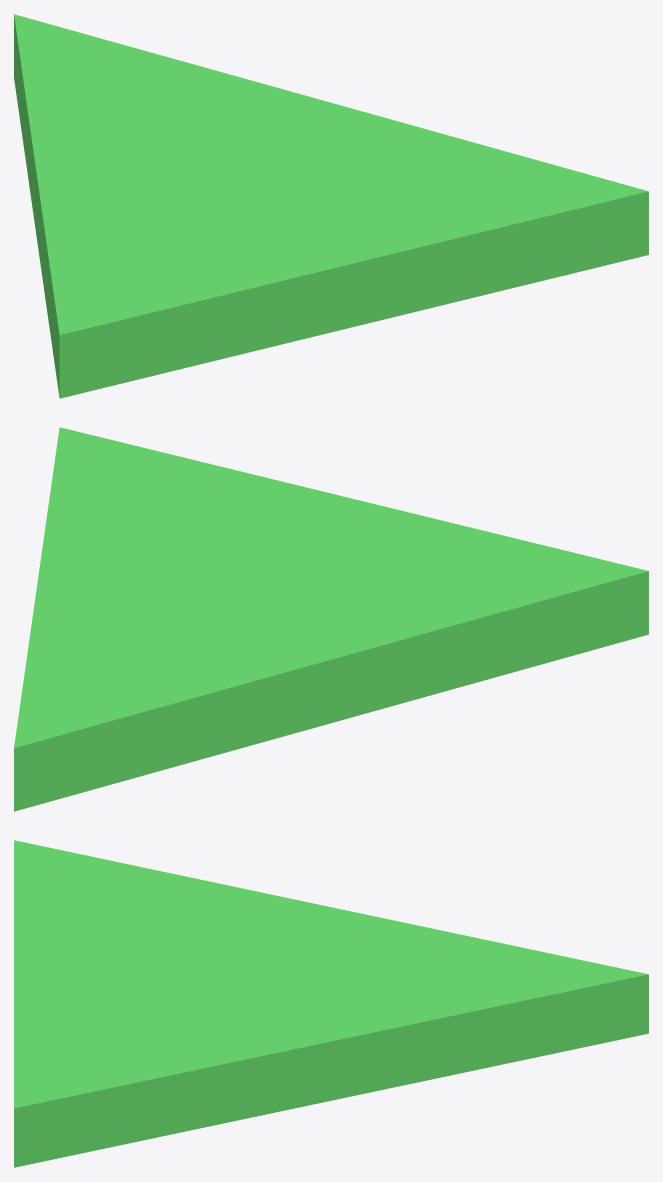
File: boid.fbx
3 views of the same model, one above another, from view 1: azimuth 30°, elevation 25°; view 2: azimuth 150°, elevation 25°; view 3: azimuth 270°, elevation 25° (orthographic). The views are drawn at different scales.
Parts seen in each view (by area): view 1: Plane; view 2: Plane; view 3: Plane.
Boxes of the visible parts, box(x1,y1,x2,y2) form: Plane: box(14, 14, 648, 398); Plane: box(14, 427, 648, 811); Plane: box(14, 840, 648, 1167).
Size of the model in its own units: 200 by 20.6 by 200.
